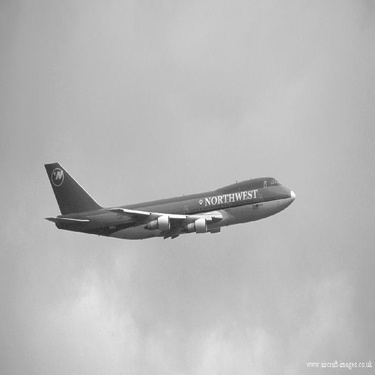airplane: (29, 148, 305, 262)
